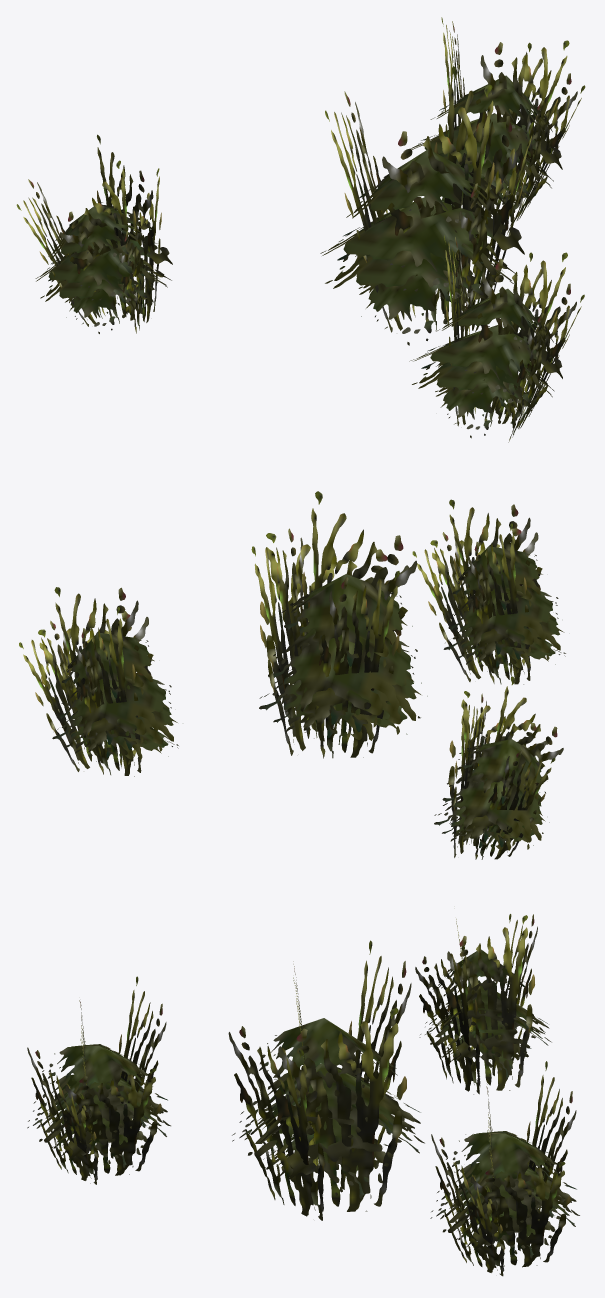
3 views of the same model, one above another, from view 1: azimuth 30°, elevation 25°; view 2: azimuth 150°, elevation 25°; view 3: azimuth 270°, elevation 25° (orthographic). The views are drawn at different scales.
Parts seen in each view (by area): view 1: Grass03; view 2: Grass03; view 3: Grass03.
Part boxes in pixels (<box>): Grass03: <box>16,17,585,442</box>; Grass03: <box>19,491,565,859</box>; Grass03: <box>27,914,579,1276</box>.
Size of the model in its own units: 315 by 134 by 282.
